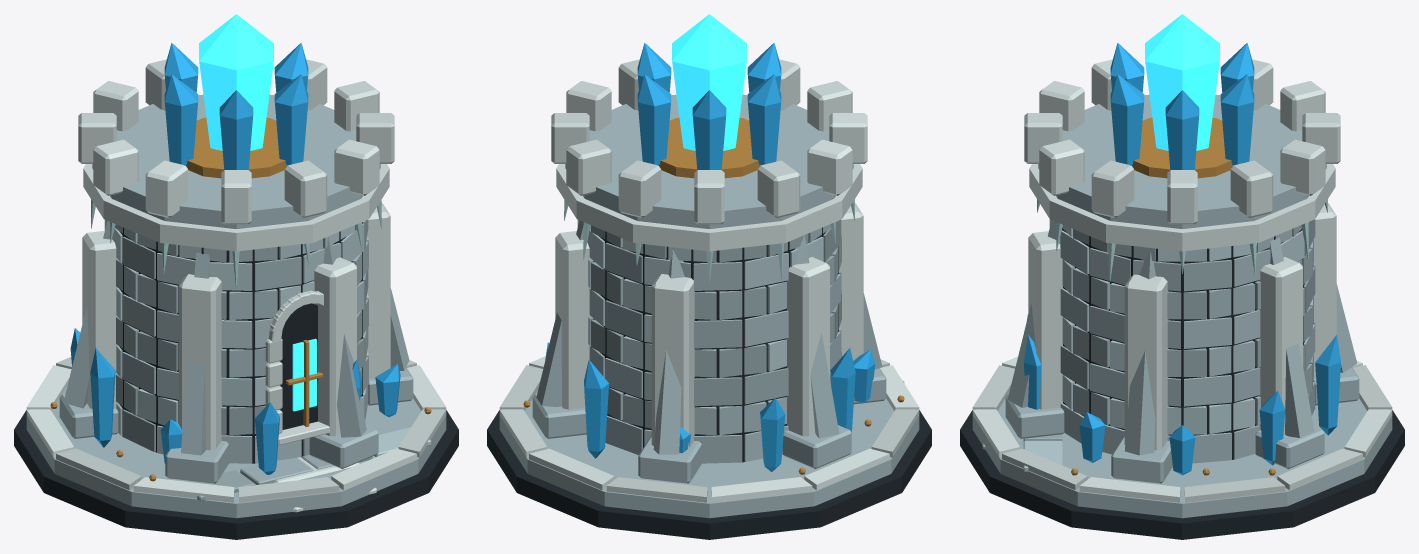
File: frost__cristalina__L05.glb
3 renders of one model, left to right at view 1: azimuth 30°, elevation 25°; view 2: azimuth 150°, elevation 25°; view 3: azimuth 270°, elevation 25°, orthographic.
Parts seen in each view (by area): view 1: structure, weapon; view 2: structure, weapon; view 3: structure, weapon.
Part boxes in pixels (x1,y1,x2,y2): structure: (14, 59, 458, 539); weapon: (164, 14, 308, 178); structure: (487, 59, 931, 539); weapon: (637, 14, 781, 178); structure: (960, 59, 1404, 539); weapon: (1110, 14, 1254, 178).
Bounding box in the file's own units: 0.8624 × 0.924 × 0.8624.
